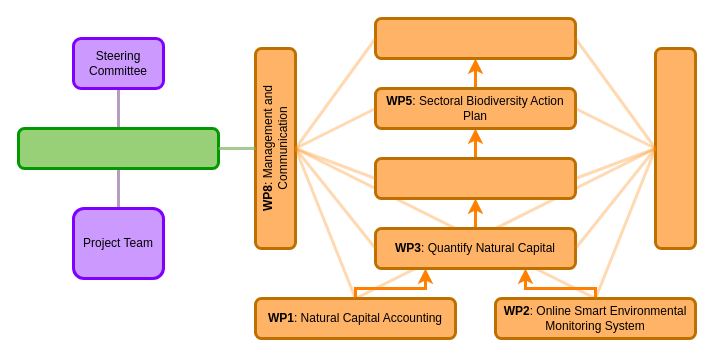
Image size: 714x357. Some labels were removed from this diagram. The centre of each missing label's shape, as x and y in pixels:
Meetings of Project Team, Steering Committee and Stakeholder Group: point (118, 148)
WP4 : Natural Capital Asset and Risk Register: point (475, 178)
WP6 : Decision Support Tool: point (475, 38)
WP7 : Industry-Acafemia Sectoral Training Programme: point (675, 148)
